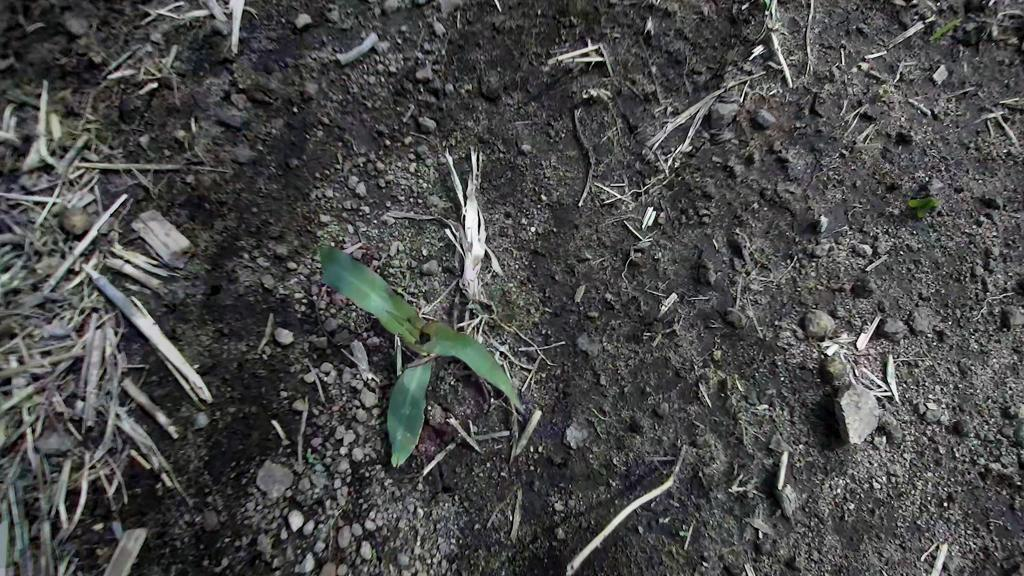BroWeed: (926, 15, 963, 44), (907, 193, 943, 222), (188, 407, 216, 435), (169, 124, 196, 149), (984, 19, 1008, 45), (107, 517, 129, 542), (300, 446, 320, 466), (871, 433, 886, 455), (855, 58, 873, 73), (1004, 31, 1019, 46), (678, 529, 689, 538), (763, 0, 772, 11), (396, 284, 405, 294), (879, 88, 890, 96), (372, 548, 377, 558)
Maize: (305, 197, 530, 468)
